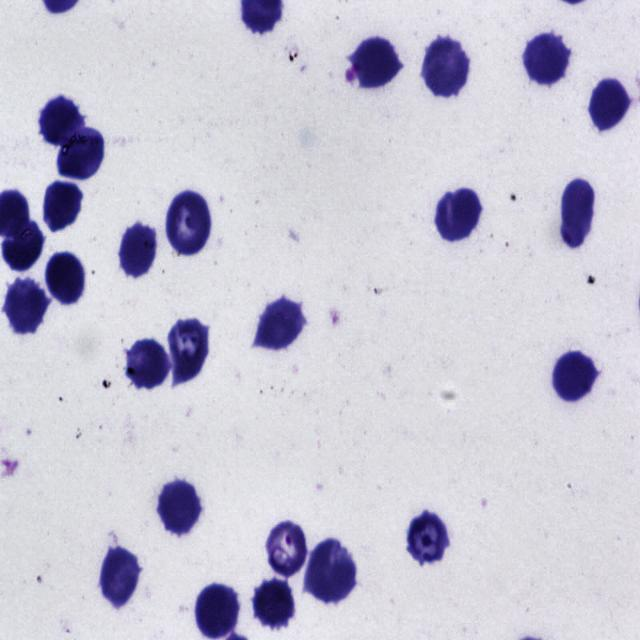red blood cell: (163, 190, 213, 259), (307, 542, 356, 604), (422, 35, 470, 97), (167, 315, 210, 383), (522, 31, 572, 87), (256, 298, 305, 355), (351, 37, 403, 90), (405, 510, 452, 568), (558, 179, 596, 250), (156, 479, 203, 536), (100, 543, 142, 606), (194, 584, 240, 640), (437, 188, 482, 245), (4, 277, 48, 335), (56, 127, 104, 179), (588, 77, 633, 132), (119, 220, 159, 279), (265, 520, 307, 576), (38, 95, 85, 145), (125, 339, 171, 390), (253, 577, 297, 629), (46, 252, 86, 305), (2, 222, 43, 272), (553, 353, 598, 398), (44, 184, 85, 227)
